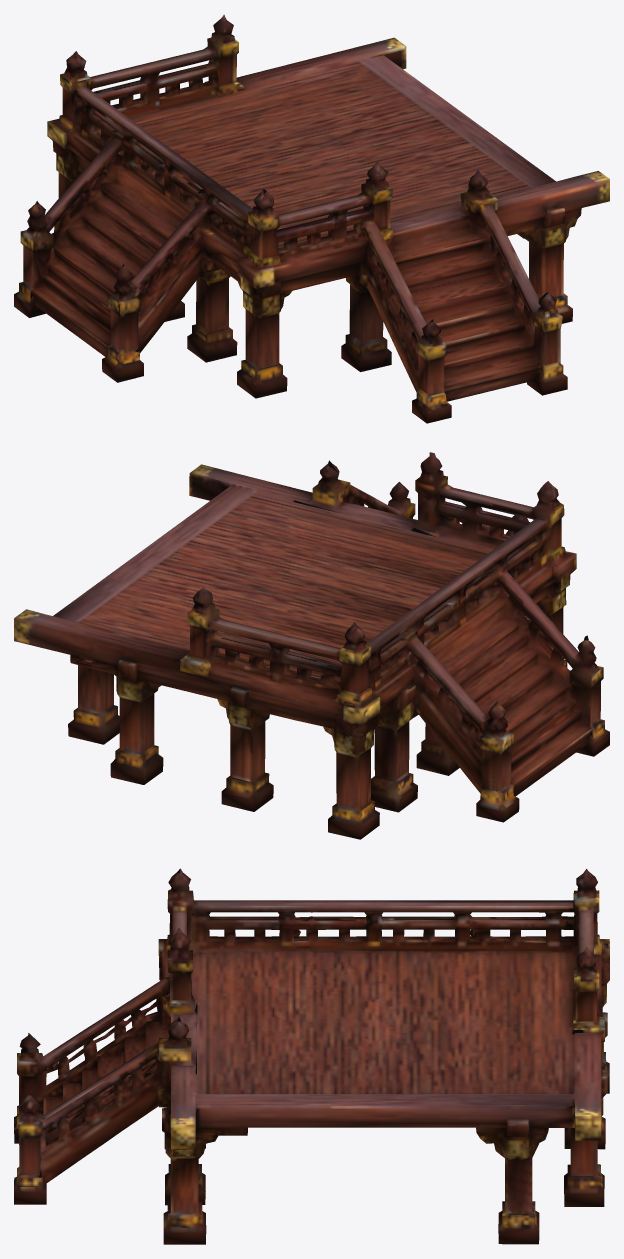
The model's file is SingleStareBase.fbx.
3 renders of one model, top to bottom at view 1: azimuth 30°, elevation 25°; view 2: azimuth 150°, elevation 25°; view 3: azimuth 270°, elevation 25°, orthographic. The views are drawn at different scales.
Visible parts, largest first — view 1: node_0.001; view 2: node_0.001; view 3: node_0.001.
Part boxes in pixels (x1,y1,x2,y2): node_0.001: [14, 14, 609, 423]; node_0.001: [14, 452, 609, 839]; node_0.001: [14, 868, 609, 1244].
Size of the model in its own units: 86.02 by 37.26 by 92.2.
Materials: 1 (1 with a texture image).
